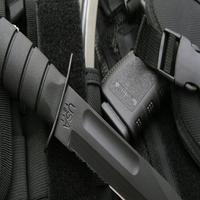knife: (2, 27, 181, 200)
